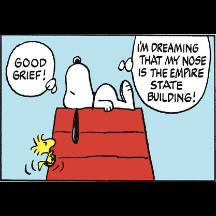snoopy: (62, 55, 136, 144)
